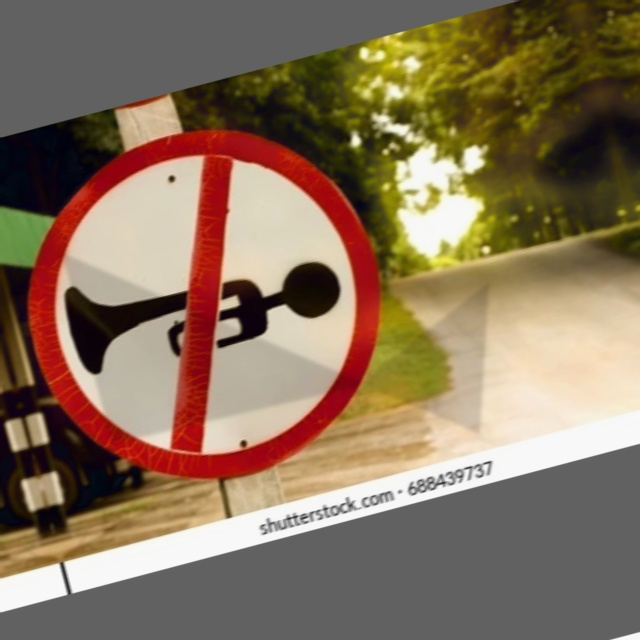Horn_Prohibited: (10, 111, 403, 494)
